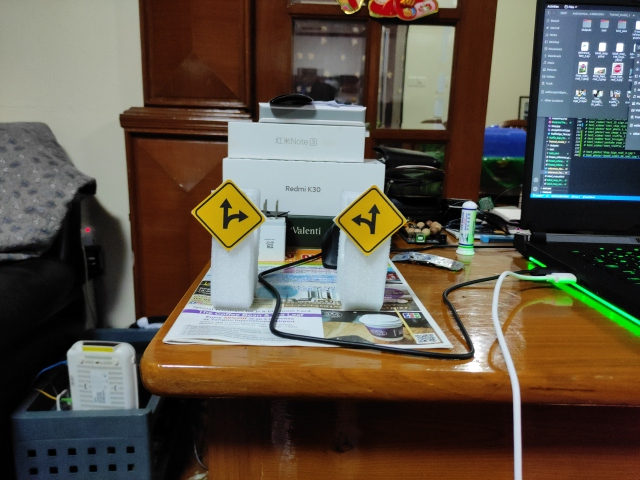Straight Or Left Sign: (335, 186, 407, 254)
Straight Or Right Sign: (190, 180, 271, 251)
